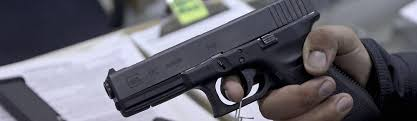gun: (100, 5, 375, 121)
